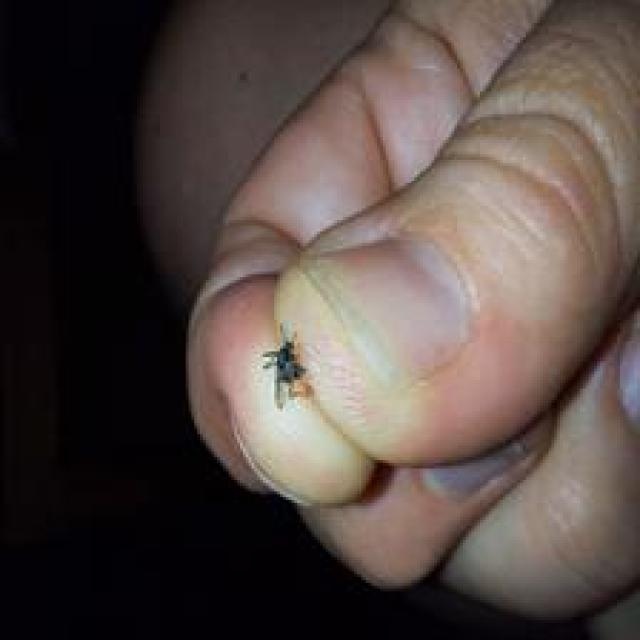Aedes albopictus: (260, 320, 314, 411)
